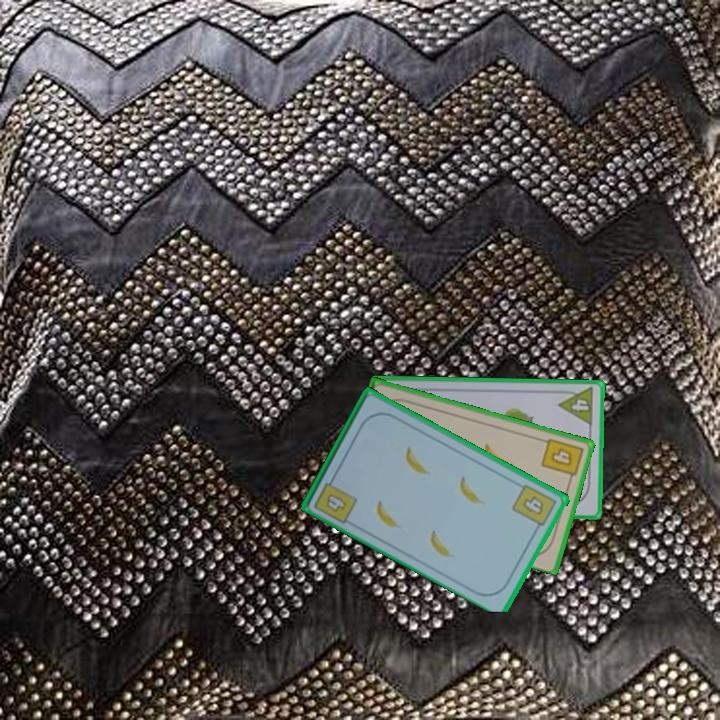4b: (509, 480, 560, 534), (310, 471, 360, 526), (538, 434, 586, 485)
4p: (555, 384, 596, 428)
